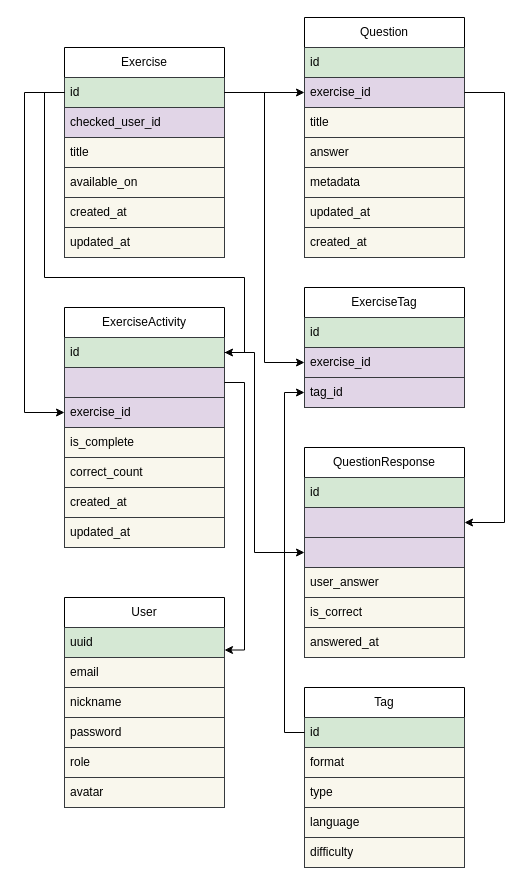
Image size: 530x885. Some labels were removed from this diagram. The centre of each missing label's shape, as x and y in pixels:
"exercise_activity_id" belongs at [384,552].
"question_id" belongs at [384,522].
"user_id" belongs at [144,382].
